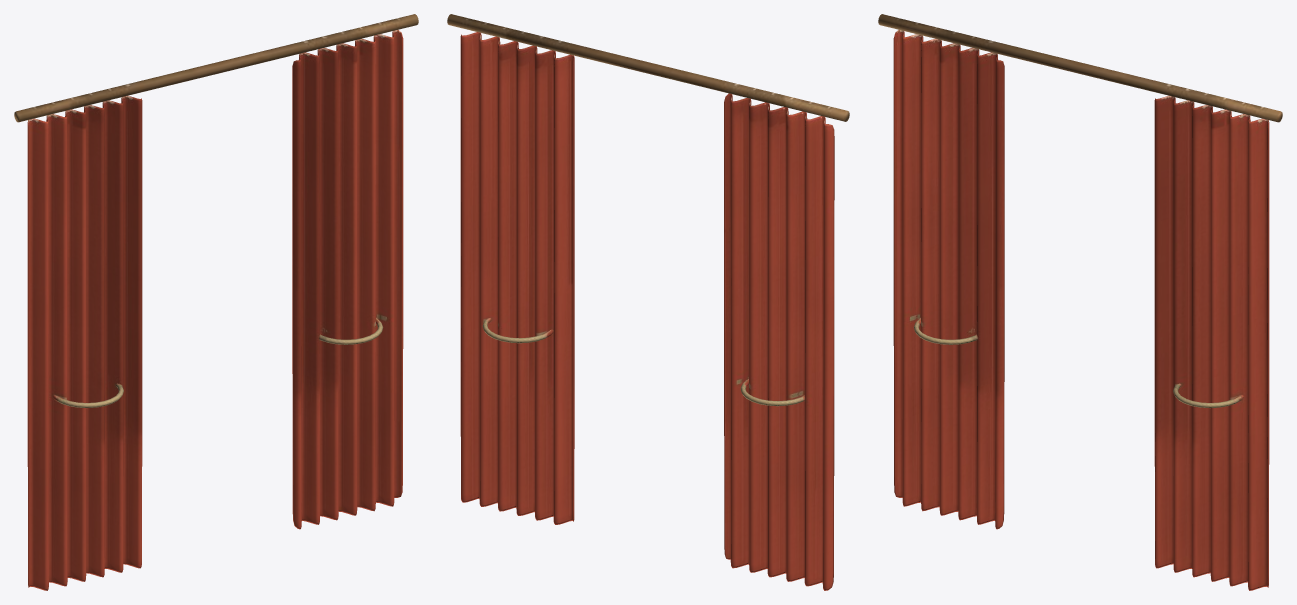
File: curtain_red.glb
3 renders of one model, left to right at view 1: azimuth 30°, elevation 25°; view 2: azimuth 150°, elevation 25°; view 3: azimuth 330°, elevation 25°, orthographic.
Visible parts, largest first — view 1: prop_curtain_red_felt, prop_curtain_red_wood; view 2: prop_curtain_red_felt, prop_curtain_red_wood; view 3: prop_curtain_red_felt, prop_curtain_red_wood.
Part boxes in pixels (bbox=[...]): prop_curtain_red_felt: bbox=[27, 30, 403, 590]; prop_curtain_red_wood: bbox=[14, 14, 418, 122]; prop_curtain_red_felt: bbox=[460, 32, 834, 590]; prop_curtain_red_wood: bbox=[447, 14, 849, 121]; prop_curtain_red_felt: bbox=[893, 30, 1269, 590]; prop_curtain_red_wood: bbox=[878, 14, 1282, 122].
Size of the model in its own units: 3.2 by 3.7 by 0.516.
Materials: 2 (2 with a texture image).
